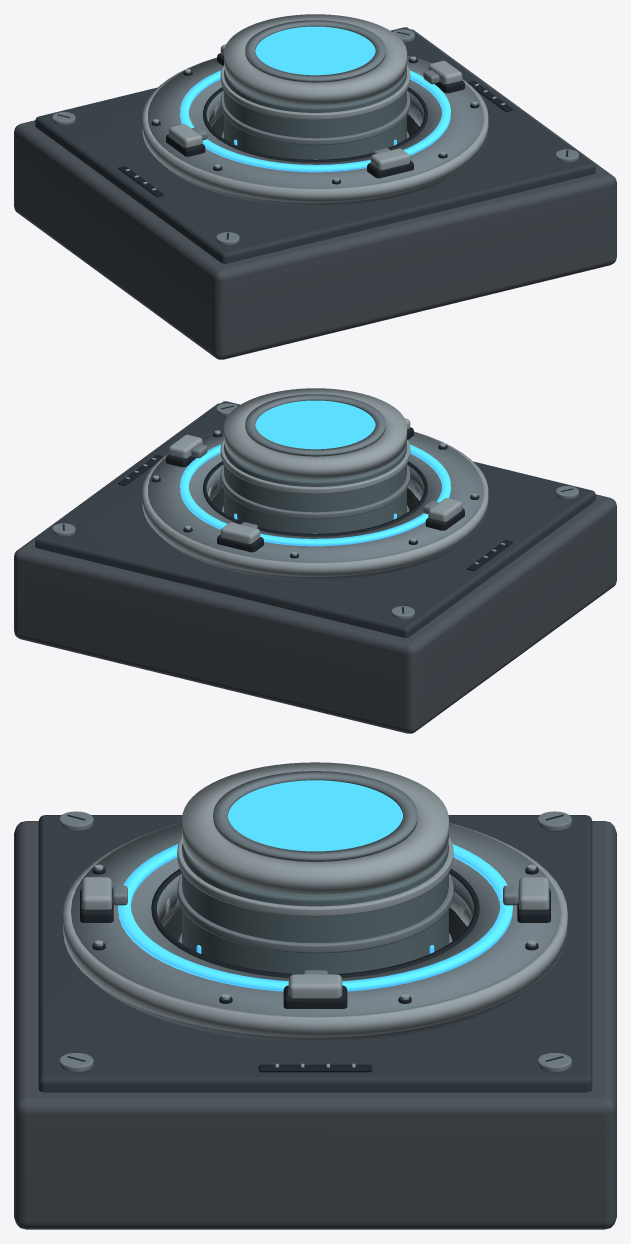
Rendered from EnergyCellSocket_Blue.fbx.
The picture shows the model from 3 angles, top to bottom: view 1: azimuth 30°, elevation 25°; view 2: azimuth 150°, elevation 25°; view 3: azimuth 270°, elevation 25°; orthographic projection. The views are drawn at different scales.
Visible parts, largest first — view 1: SOCKET_Housing_Main_Gunmetal, SOCKET_Front_Faceplate, SOCKET_Armored_Retainer_Bezel, CELL_Insert_Ceramic_Titanium_Body_Dia_0.92m, CELL_Front_Armored_End_Cap, SOCKET_Outer_Bezel_Machined_Border, CELL_Emissive_Core_Window, SOCKET_Indicator_Ring_Green_Emissive, CELL_Front_Cap_Retaining_Rim, CELL_Contact_Rib_05, CELL_Contact_Rib_04, SOCKET_Bezel_Inner_Dark_Inlay (+3 smaller); view 2: SOCKET_Housing_Main_Gunmetal, SOCKET_Front_Faceplate, SOCKET_Armored_Retainer_Bezel, CELL_Insert_Ceramic_Titanium_Body_Dia_0.92m, CELL_Front_Armored_End_Cap, SOCKET_Outer_Bezel_Machined_Border, CELL_Emissive_Core_Window, SOCKET_Indicator_Ring_Green_Emissive, CELL_Front_Cap_Retaining_Rim, CELL_Contact_Rib_05, CELL_Contact_Rib_04, SOCKET_Bezel_Inner_Dark_Inlay (+3 smaller); view 3: SOCKET_Housing_Main_Gunmetal, SOCKET_Front_Faceplate, SOCKET_Armored_Retainer_Bezel, CELL_Insert_Ceramic_Titanium_Body_Dia_0.92m, CELL_Front_Armored_End_Cap, SOCKET_Outer_Bezel_Machined_Border, CELL_Emissive_Core_Window, SOCKET_Indicator_Ring_Green_Emissive, CELL_Front_Cap_Retaining_Rim, CELL_Contact_Rib_05, CELL_Contact_Rib_04, SOCKET_Bezel_Inner_Dark_Inlay (+6 smaller).
Boxes of the visible parts, box(x1,y1,x2,y2) form: SOCKET_Housing_Main_Gunmetal: box(14, 29, 616, 359); SOCKET_Front_Faceplate: box(35, 27, 595, 263); SOCKET_Armored_Retainer_Bezel: box(148, 56, 482, 206); CELL_Insert_Ceramic_Titanium_Body_Dia_0.92m: box(224, 69, 406, 159); CELL_Front_Armored_End_Cap: box(224, 14, 406, 104); SOCKET_Outer_Bezel_Machined_Border: box(142, 55, 488, 202); CELL_Emissive_Core_Window: box(255, 26, 375, 75); SOCKET_Indicator_Ring_Green_Emissive: box(180, 70, 450, 172); CELL_Front_Cap_Retaining_Rim: box(245, 20, 385, 82); CELL_Contact_Rib_05: box(220, 65, 410, 119); CELL_Contact_Rib_04: box(220, 90, 410, 145); SOCKET_Bezel_Inner_Dark_Inlay: box(203, 87, 427, 162); SOCKET_Housing_Main_Gunmetal: box(14, 403, 616, 733); SOCKET_Front_Faceplate: box(35, 401, 595, 637); SOCKET_Armored_Retainer_Bezel: box(148, 430, 482, 580); CELL_Insert_Ceramic_Titanium_Body_Dia_0.92m: box(224, 443, 406, 533); CELL_Front_Armored_End_Cap: box(224, 388, 406, 478); SOCKET_Outer_Bezel_Machined_Border: box(142, 429, 488, 576); CELL_Emissive_Core_Window: box(255, 400, 375, 449); SOCKET_Indicator_Ring_Green_Emissive: box(180, 444, 450, 546); CELL_Front_Cap_Retaining_Rim: box(245, 394, 385, 456); CELL_Contact_Rib_05: box(220, 439, 410, 493); CELL_Contact_Rib_04: box(220, 464, 410, 519); SOCKET_Bezel_Inner_Dark_Inlay: box(203, 461, 427, 536); SOCKET_Housing_Main_Gunmetal: box(14, 821, 616, 1229); SOCKET_Front_Faceplate: box(38, 815, 592, 1092); SOCKET_Armored_Retainer_Bezel: box(71, 823, 559, 1042); CELL_Insert_Ceramic_Titanium_Body_Dia_0.92m: box(182, 843, 448, 974); CELL_Front_Armored_End_Cap: box(182, 762, 448, 894); SOCKET_Outer_Bezel_Machined_Border: box(63, 823, 567, 1037); CELL_Emissive_Core_Window: box(228, 780, 402, 851); SOCKET_Indicator_Ring_Green_Emissive: box(118, 844, 512, 991); CELL_Front_Cap_Retaining_Rim: box(213, 771, 417, 861); CELL_Contact_Rib_05: box(177, 837, 453, 916); CELL_Contact_Rib_04: box(177, 874, 453, 953); SOCKET_Bezel_Inner_Dark_Inlay: box(151, 868, 479, 977).
Size of the model in its own units: 2.34 by 1.05 by 2.08.
